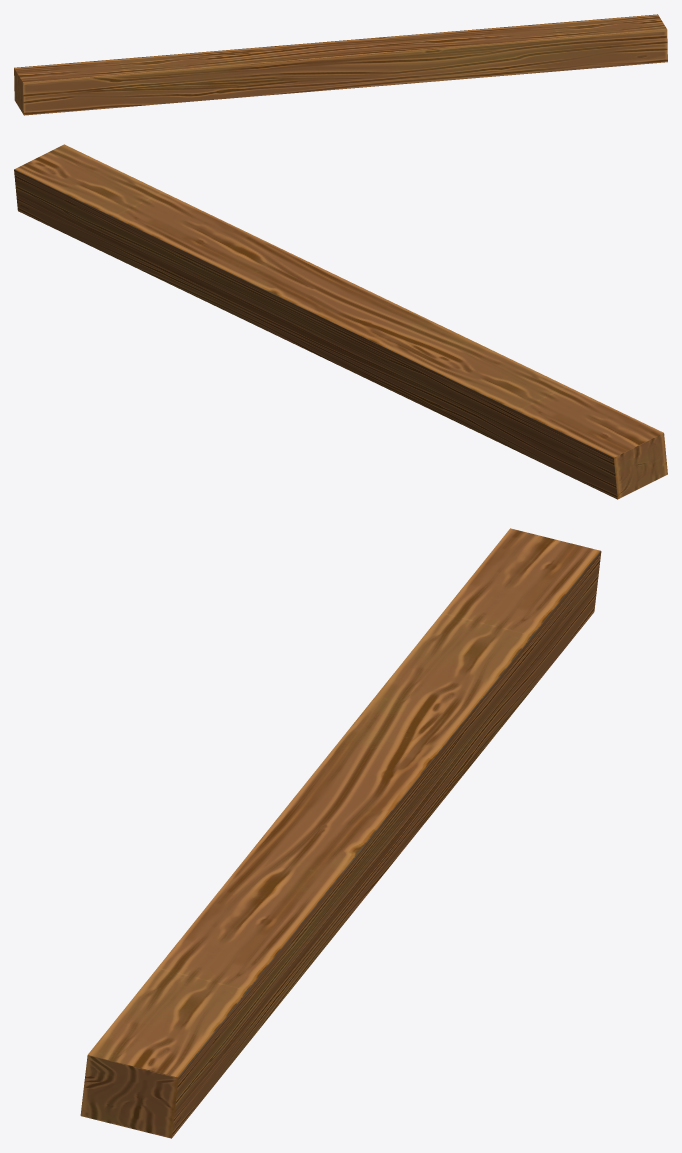
3 views of the same model, one above another, from view 1: azimuth 30°, elevation 25°; view 2: azimuth 150°, elevation 25°; view 3: azimuth 270°, elevation 25° (orthographic). The views are drawn at different scales.
Parts seen in each view (by area): view 1: Cube.1960; view 2: Cube.1960; view 3: Cube.1960.
Part boxes in pixels (x1,y1,x2,y2): Cube.1960: [14, 14, 667, 115]; Cube.1960: [14, 144, 667, 499]; Cube.1960: [80, 528, 601, 1138].
Bounding box in the file's own units: 323 × 20.27 × 132.
1 material, 1 textured.
